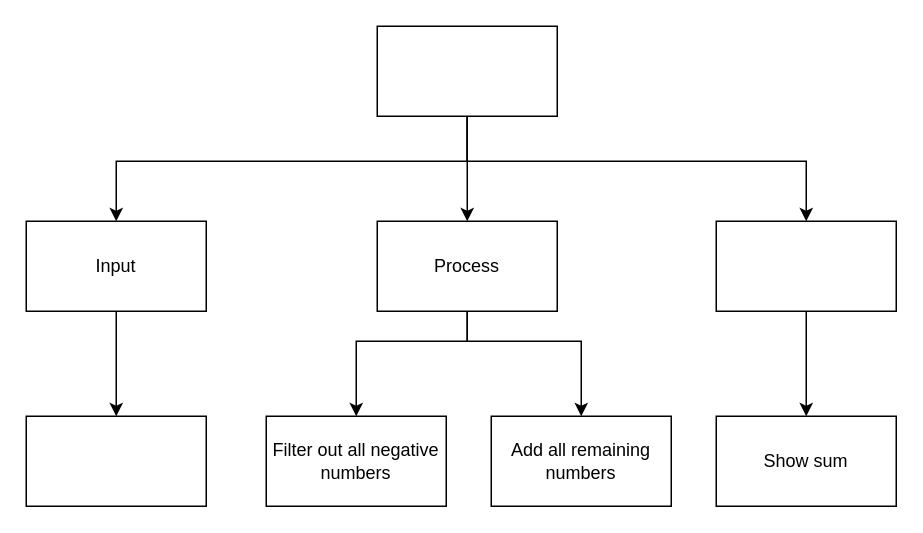
Image size: 923x533. Some labels were removed from this diagram. Each missing label, with the centre of its shape:
"Get all integers" belongs at point 115,460.
"Guessing random number" belongs at point 466,70.
"Output" belongs at point 805,265.
